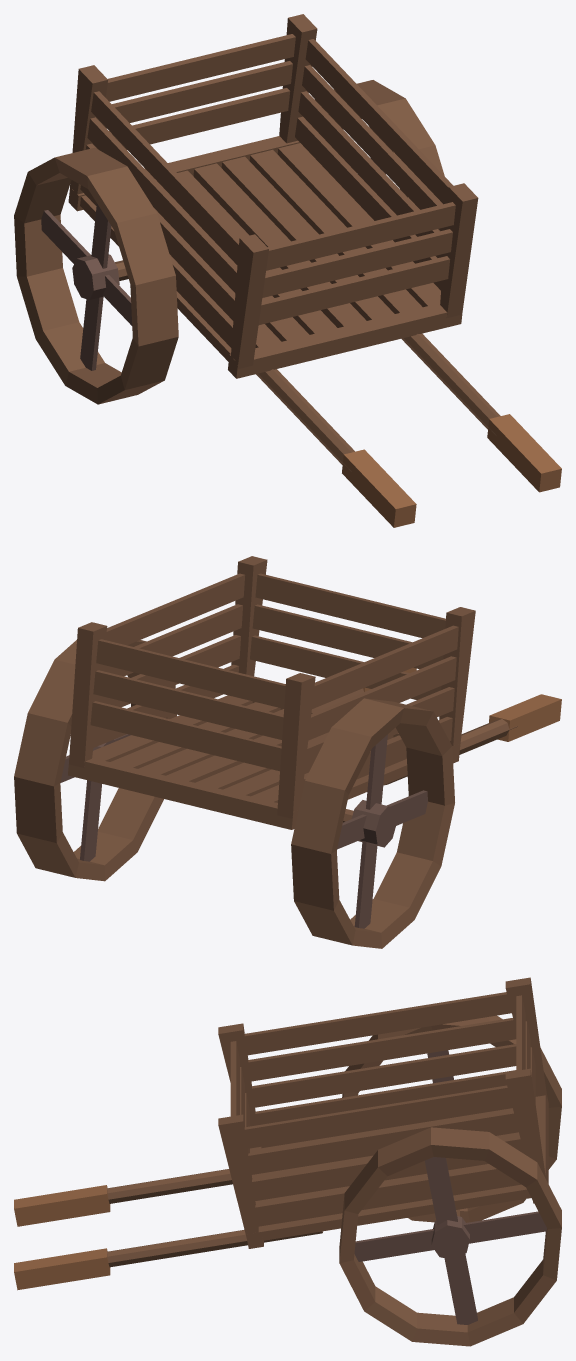
The model's file is SM_cart.fbx.
3 views of the same model, one above another, from view 1: azimuth 30°, elevation 25°; view 2: azimuth 150°, elevation 25°; view 3: azimuth 270°, elevation 25° (orthographic). The views are drawn at different scales.
Parts seen in each view (by area): view 1: cart; view 2: cart; view 3: cart.
Part boxes in pixels (x1,y1,x2,y2): cart: (14,14,561,527); cart: (14,556,561,948); cart: (14,977,561,1346).
Bounding box in the file's own units: 287 × 242 × 480.
